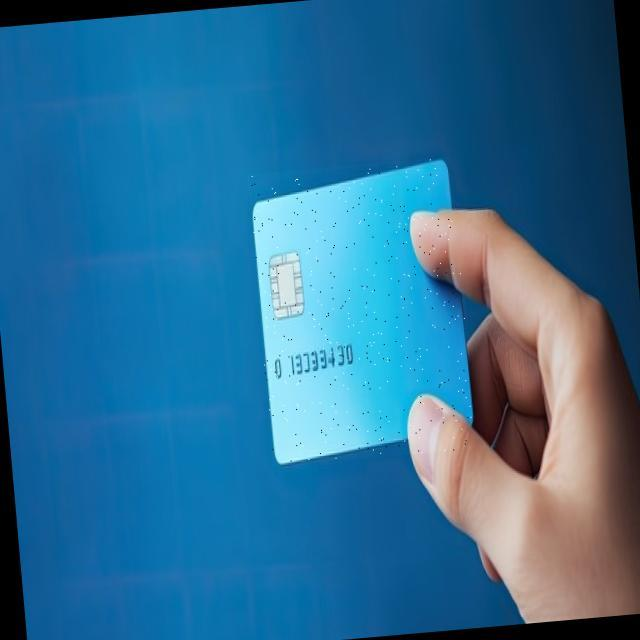payment_card: (250, 158, 475, 466)
